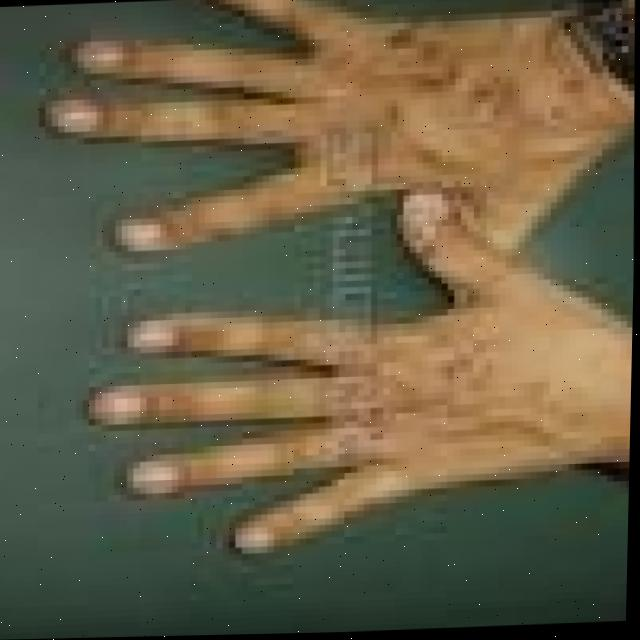Melasma: (396, 47, 495, 145), (331, 365, 402, 445), (451, 344, 481, 380)
